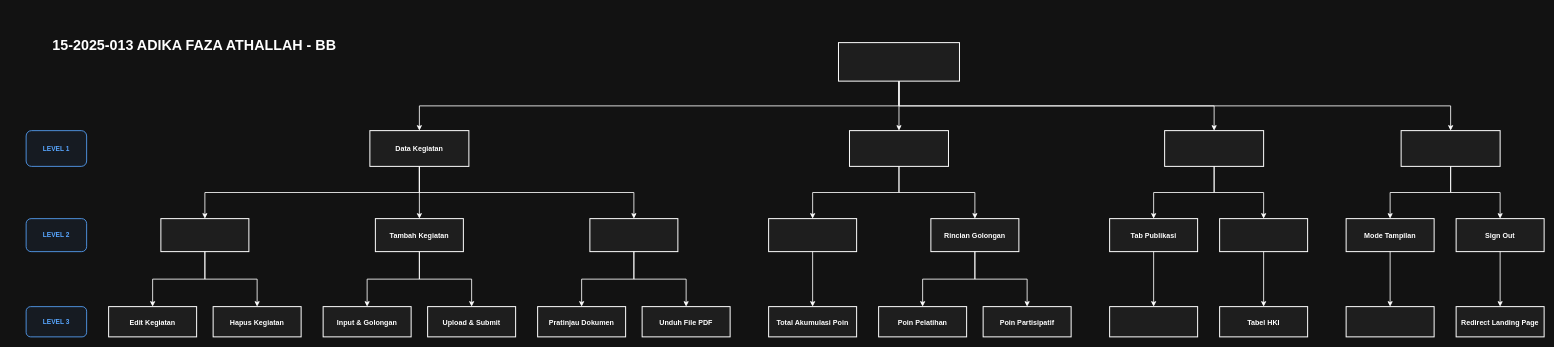
Image size: 1554x347. Some labels were removed from this diagram. Here are the shapes that lost their labels. From the top down, the centre of each, then its label:
At point (899, 61): "Login SIM SKK".
At point (899, 148): "Rekap Nilai".
At point (1214, 148): "Publikasi / HKI".
At point (1450, 148): "Profil Akun".
At point (204, 235): "Daftar Kegiatan".
At point (633, 235): "Download Bukti SKK".
At point (812, 235): "Ringkasan Poin".
At point (1263, 235): "Tab HKI".
At point (1153, 321): "Tabel Publikasi".
At point (1389, 321): "Light / Dark / System".
